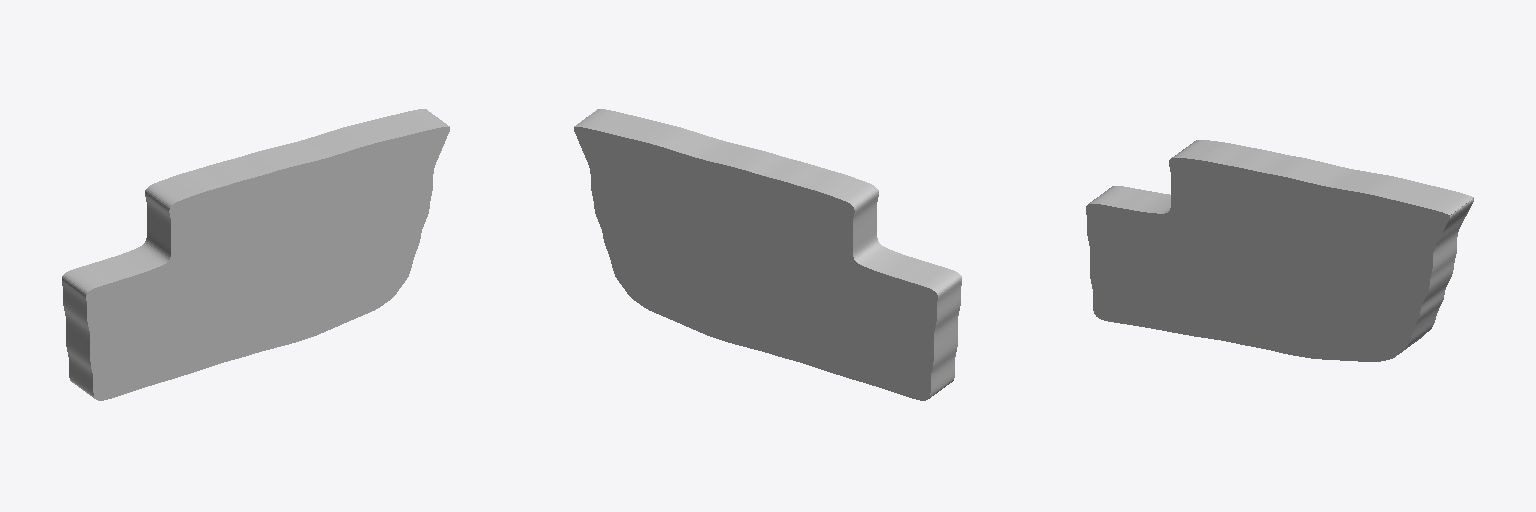
3 views of the same model, side by side, from view 1: azimuth 30°, elevation 25°; view 2: azimuth 150°, elevation 25°; view 3: azimuth 330°, elevation 25° (orthographic).
Visible parts, largest first — view 1: 平面; view 2: 平面; view 3: 平面.
Boxes of the visible parts, box(x1,y1,x2,y2) form: 平面: box(62, 109, 449, 400); 平面: box(574, 109, 961, 400); 平面: box(1086, 140, 1473, 361).
Bounding box in the file's own units: 1.73 × 0.8667 × 0.2.